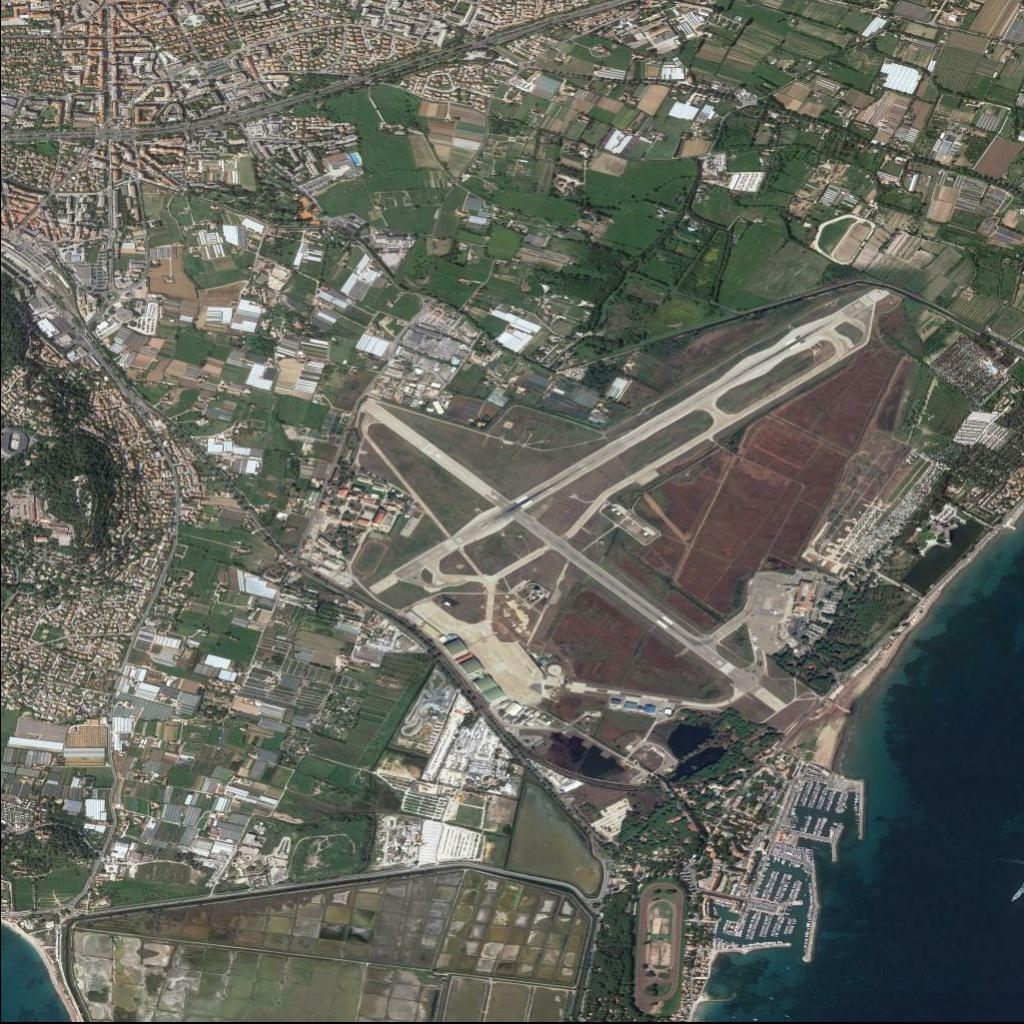harbor: (714, 754, 884, 992)
